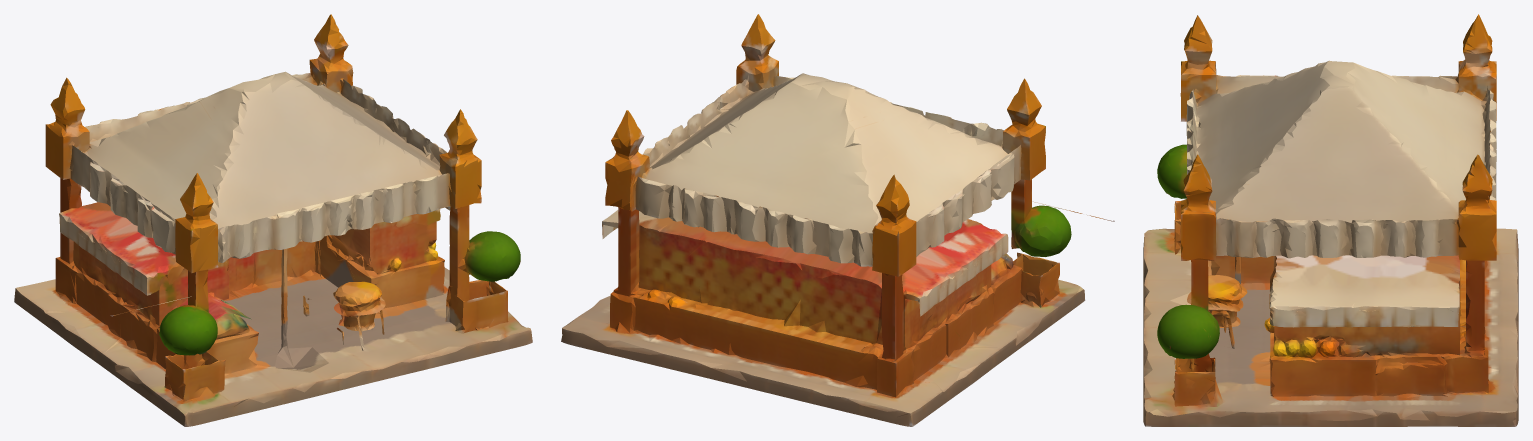
File: bazaar.glb
3 renders of one model, left to right at view 1: azimuth 30°, elevation 25°; view 2: azimuth 150°, elevation 25°; view 3: azimuth 270°, elevation 25°, orthographic. The views are drawn at different scales.
Parts seen in each view (by area): view 1: Bazaar; view 2: Bazaar; view 3: Bazaar.
Boxes of the visible parts, <box> form: Bazaar: <box>14,14,532,426</box>; Bazaar: <box>561,14,1114,426</box>; Bazaar: <box>1143,14,1518,426</box>.
Size of the model in its own units: 1.67 by 0.9493 by 1.25.
Materials: 1 (1 with a texture image).
